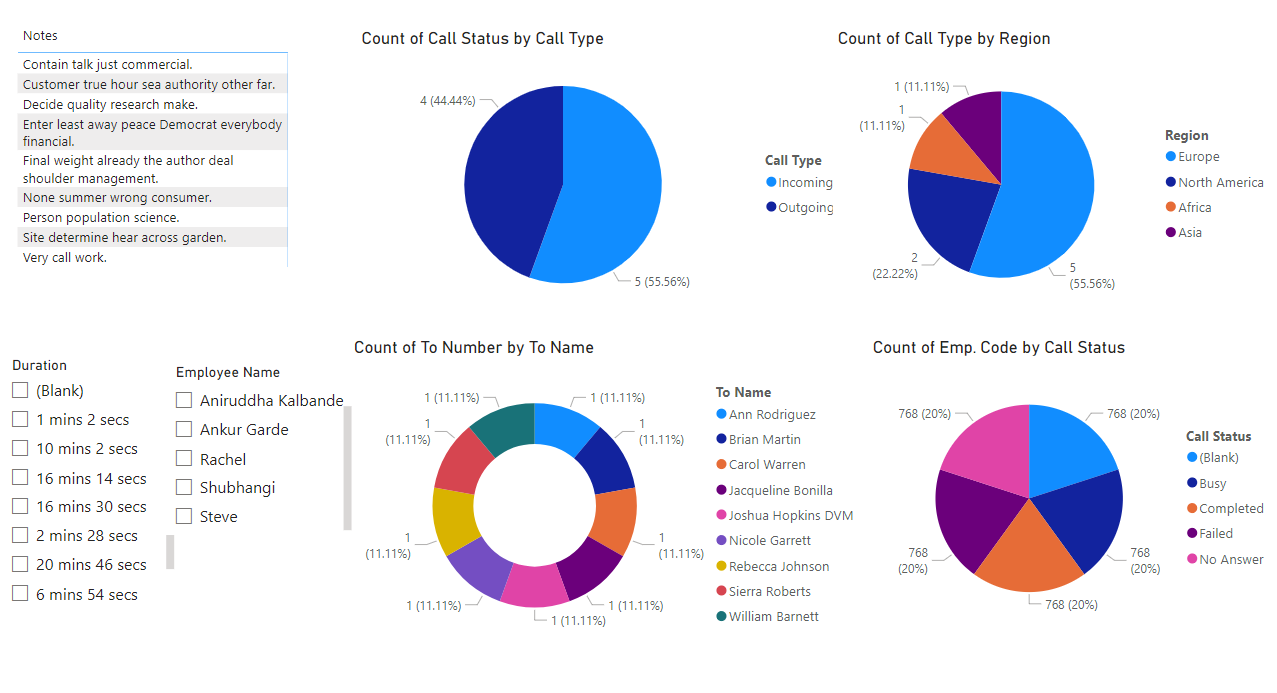

This screenshot's page, from the dashboard's own definition file:
{"tool":"powerbi","page":{"name":"Call Logs","canvas":[1280,720],"ordinal":0},"visuals":[{"type":"pivotTable","fields":{"Rows":["call.Notes"]},"box":[13.8,20,280,262.5],"z":0},{"type":"pieChart","fields":{"Y":["Whatsapp Logs.Emp. Code"],"Series":["call.Call Status"]},"box":[868.8,337.5,411.2,305],"z":1000},{"type":"pieChart","fields":{"Category":["call.Call Type"],"Y":["call.Call Status"]},"box":[357.5,28.8,492.5,295],"z":2000},{"type":"pieChart","fields":{"Category":["call.Region"],"Y":["call.Call Type"]},"box":[833.8,28.8,446.2,295],"z":3000},{"type":"slicer","fields":{"Values":["call.Duration"]},"box":[0,352.5,180,266.2],"z":4000},{"type":"donutChart","fields":{"Category":["call.To Name"],"Y":["call.To Number"]},"box":[350,337.5,518.8,318.8],"z":5000},{"type":"slicer","fields":{"Values":["call.Employee Name"]},"box":[163.8,360,193.8,176.2],"z":6000}]}

Visuals, with their boxes on the page's 1280x720 design canvas (x1, y1, x2, y2). These are canvas units, not pixel positions in the 1277x693 screenshot, which may show the page scaled, cropped or inside an application window:
pivotTable - call.Notes: 14/20/294/282
pieChart - Whatsapp Logs.Emp. Code x call.Call Status: 869/338/1280/642
pieChart - call.Call Type x call.Call Status: 358/29/850/324
pieChart - call.Region x call.Call Type: 834/29/1280/324
slicer - call.Duration: 0/352/180/619
donutChart - call.To Name x call.To Number: 350/338/869/656
slicer - call.Employee Name: 164/360/358/536
